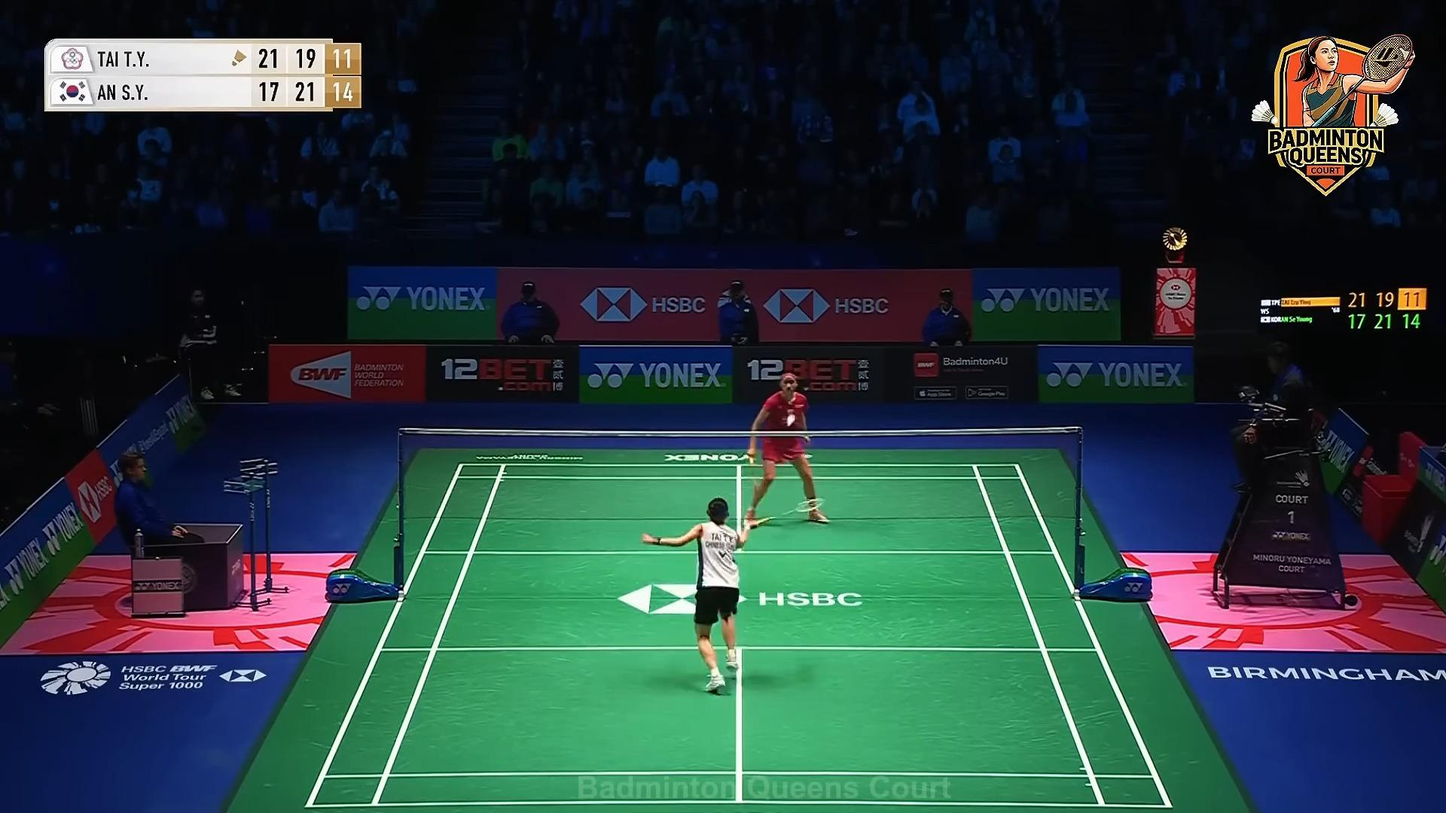shuttlecock: (785, 413, 796, 428)
